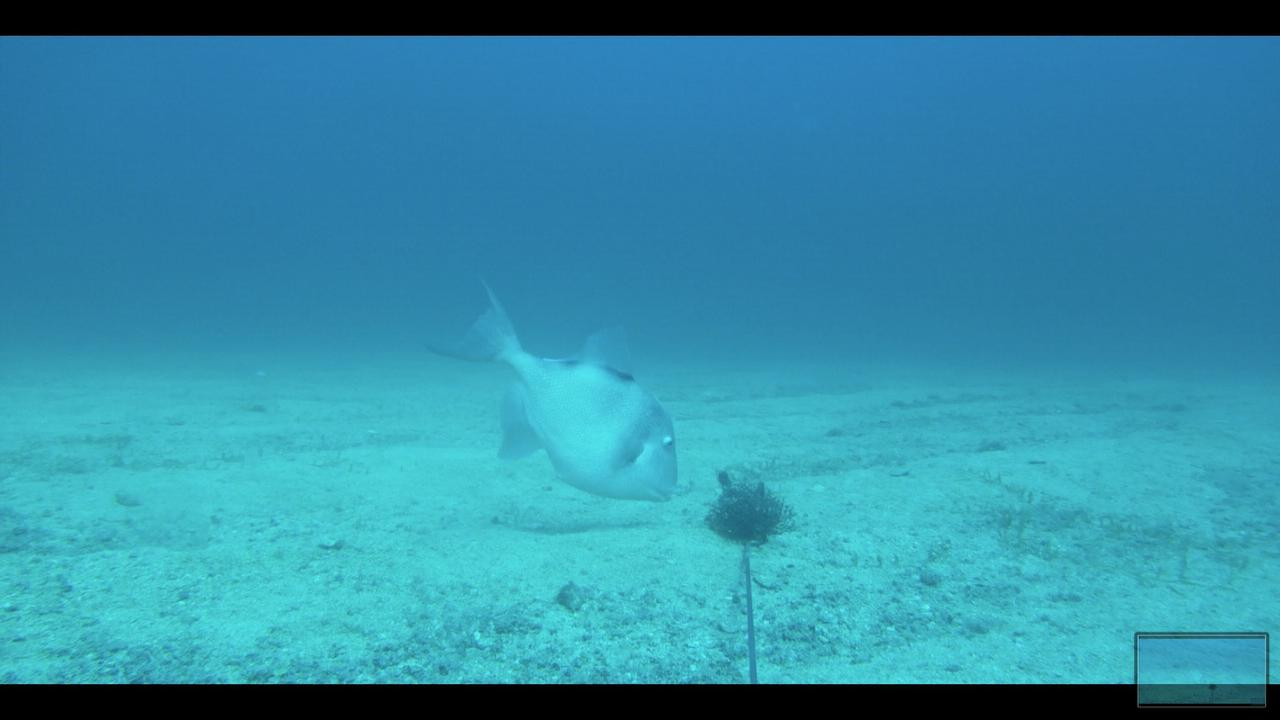balistes: (409, 270, 687, 508)
